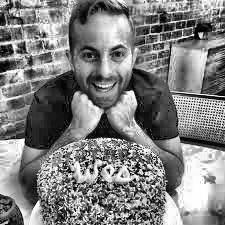happy: (57, 0, 167, 131)
